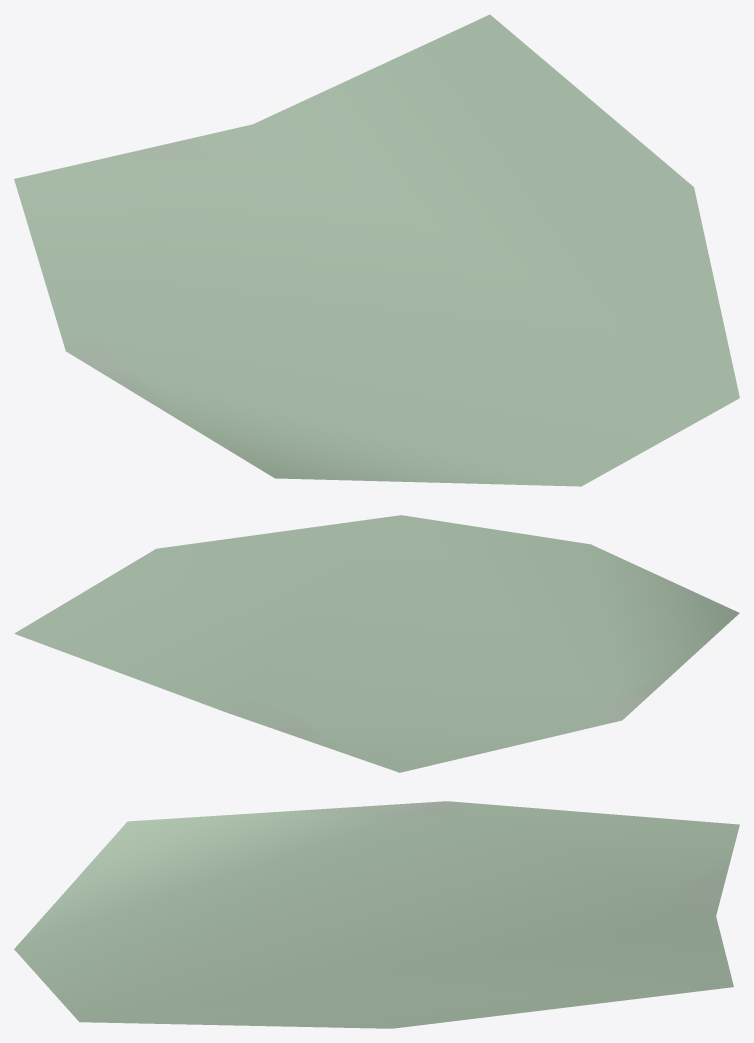
The model's file is TROLLHOLE02_HOLECAP121.fbx.
3 renders of one model, top to bottom at view 1: azimuth 30°, elevation 25°; view 2: azimuth 150°, elevation 25°; view 3: azimuth 270°, elevation 25°, orthographic. The views are drawn at different scales.
Parts seen in each view (by area): view 1: TROLLHOLE02_HOLECAP121; view 2: TROLLHOLE02_HOLECAP121; view 3: TROLLHOLE02_HOLECAP121.
Part boxes in pixels (x1,y1,x2,y2): TROLLHOLE02_HOLECAP121: (14,14,739,486); TROLLHOLE02_HOLECAP121: (14,515,739,772); TROLLHOLE02_HOLECAP121: (14,801,739,1028).
Bounding box in the file's own units: 14424 × 2473 × 16721.
Materials: 1 (1 with a texture image).
